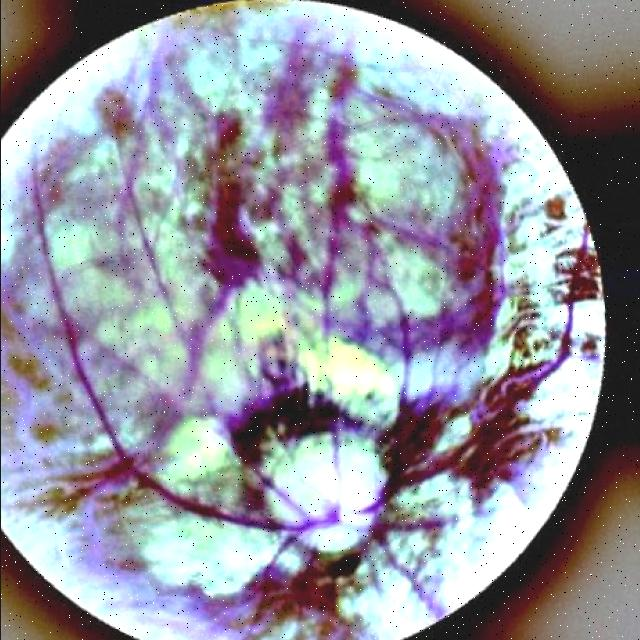Macula: (200, 143, 256, 292)
Nerves: (28, 163, 337, 535), (350, 291, 410, 517)
Optic Disk: (261, 430, 380, 556)
